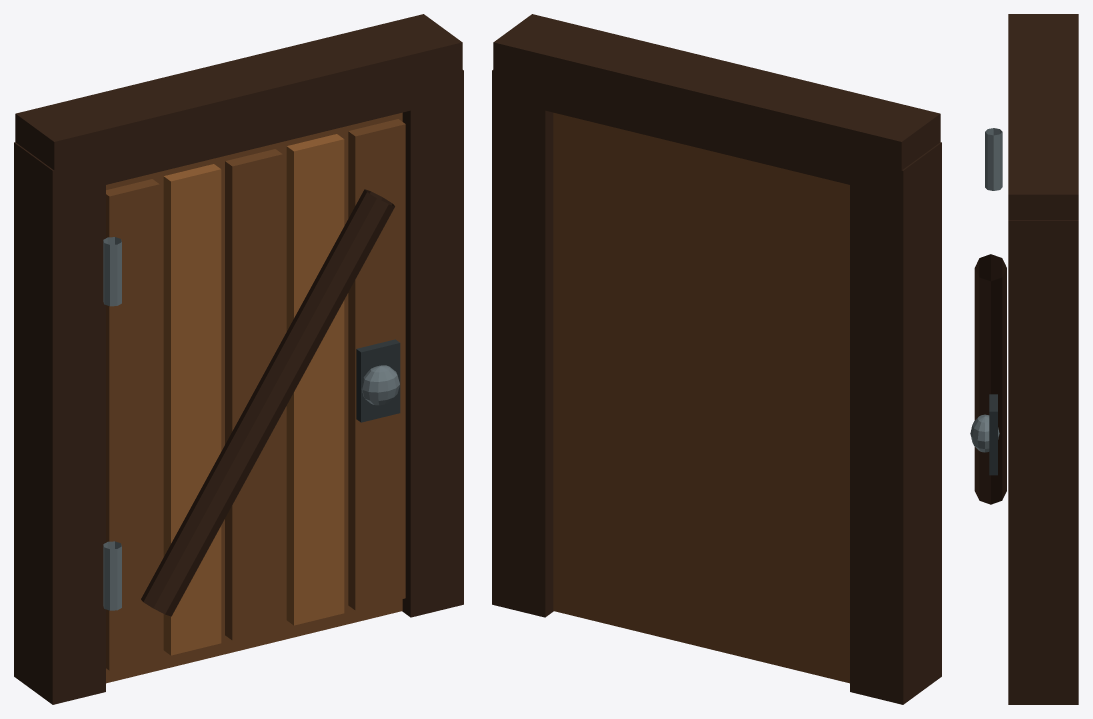
The model's file is MagicForestDoor.obj.
3 views of the same model, side by side, from view 1: azimuth 30°, elevation 25°; view 2: azimuth 150°, elevation 25°; view 3: azimuth 270°, elevation 25° (orthographic). The views are drawn at different scales.
Parts seen in each view (by area): view 1: FrameLeft, FrameTop, FrameRight, DoorPlank1, DoorPlank3, DoorPlank2, DoorPlank0, DoorPlank4, Brace, DoorSlab, LatchPlate, HingeBottom (+2 smaller); view 2: DoorSlab, FrameLeft, FrameTop, FrameRight; view 3: FrameRight, FrameTop, Brace, HingeTop, LatchPlate, Handle.
Boxes of the visible parts, box(x1,y1,x2,y2) form: FrameLeft: box(14, 142, 105, 704); FrameTop: box(15, 14, 462, 197); FrameRight: box(402, 70, 463, 617); DoorPlank1: box(163, 164, 221, 655); DoorPlank3: box(286, 134, 344, 625); DoorPlank2: box(225, 149, 282, 640); DoorPlank0: box(106, 179, 159, 670); DoorPlank4: box(348, 119, 405, 610); Brace: box(141, 189, 394, 616); DoorSlab: box(106, 112, 402, 683); LatchPlate: box(356, 339, 400, 422); HingeBottom: box(103, 541, 121, 610); DoorSlab: box(553, 112, 849, 683); FrameLeft: box(850, 142, 941, 704); FrameTop: box(493, 14, 940, 197); FrameRight: box(492, 70, 553, 617); FrameRight: box(1008, 220, 1078, 704); FrameTop: box(1008, 14, 1078, 220); Brace: box(974, 254, 1006, 504); HingeTop: box(985, 128, 1002, 190); LatchPlate: box(989, 394, 997, 475); Handle: box(970, 414, 999, 452).
Bounding box in the file's own units: 2.94 × 3.84 × 0.74.
